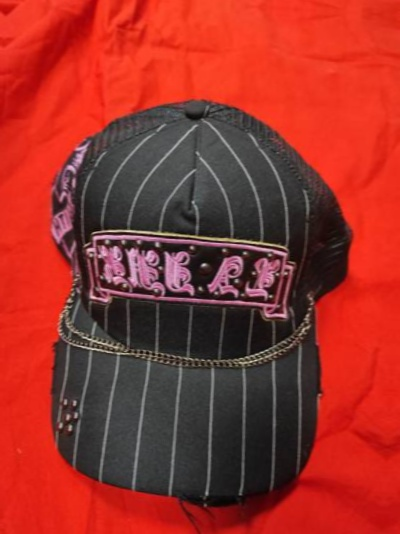Hat: (6, 94, 378, 506)
